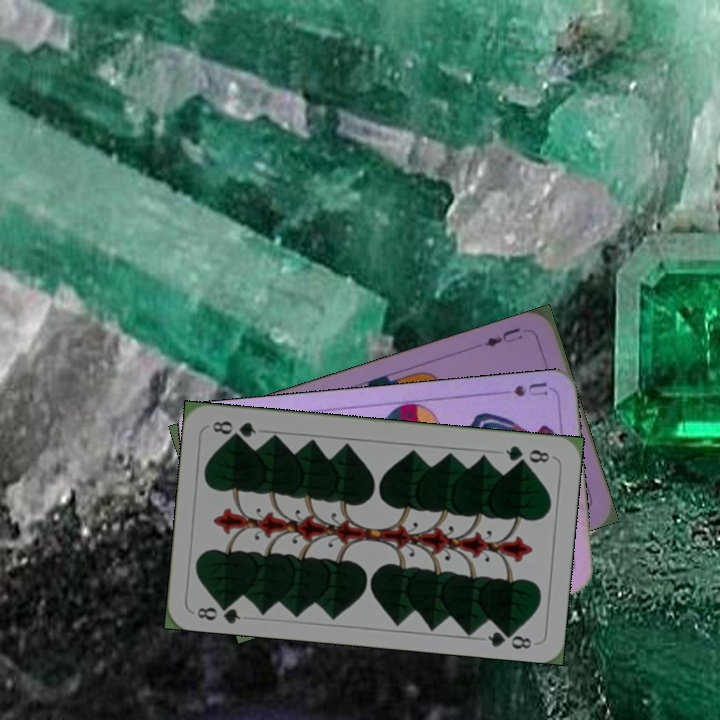EU: (480, 323, 525, 350)
G8: (193, 597, 243, 626), (502, 441, 555, 467)
SU: (491, 378, 551, 400)
